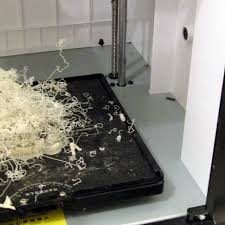fail: (1, 34, 92, 197), (79, 93, 142, 142)
